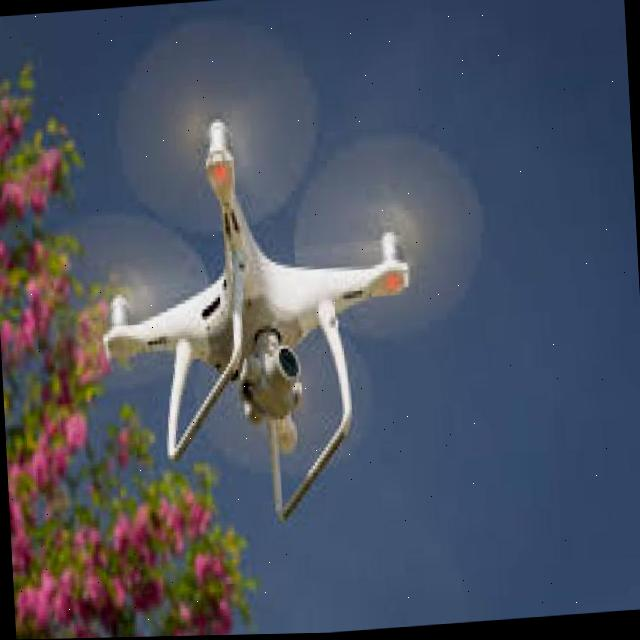drone: (47, 17, 493, 547)
